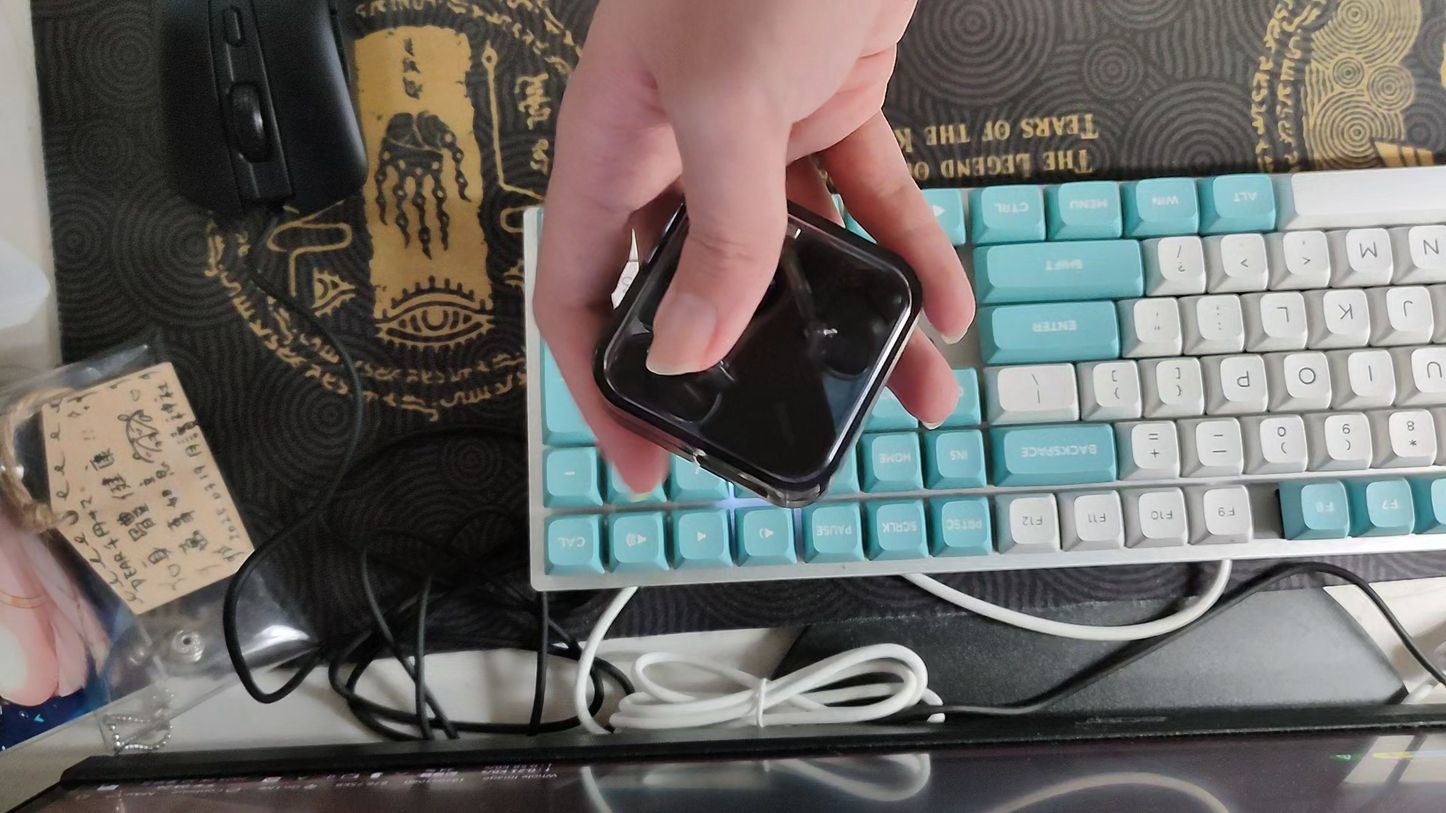Wireless_earphone: (591, 177, 926, 507)
